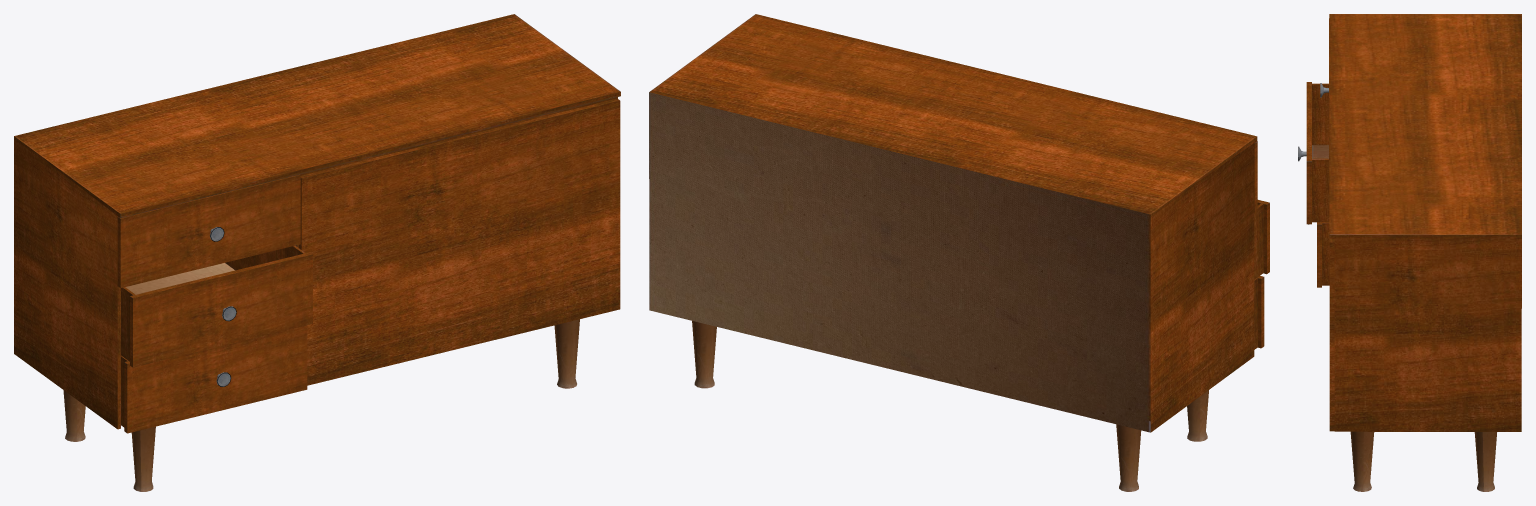
File: commode.FBX
3 views of the same model, side by side, from view 1: azimuth 30°, elevation 25°; view 2: azimuth 150°, elevation 25°; view 3: azimuth 270°, elevation 25° (orthographic). The views are drawn at different scales.
Parts seen in each view (by area): view 1: commode, commode_part2, commode_part3, commode_part; view 2: commode, commode_part2, commode_part; view 3: commode, commode_part2, commode_part.
Part boxes in pixels (x1,y1,x2,y2): commode: [14, 14, 620, 491]; commode_part2: [121, 245, 312, 367]; commode_part3: [117, 174, 300, 288]; commode_part: [121, 325, 307, 433]; commode: [649, 14, 1257, 491]; commode_part2: [1254, 200, 1269, 279]; commode_part: [1254, 276, 1264, 349]; commode: [1329, 14, 1521, 491]; commode_part2: [1298, 82, 1329, 224]; commode_part: [1308, 222, 1329, 287].
Size of the model in its own units: 252 by 143 by 108.
